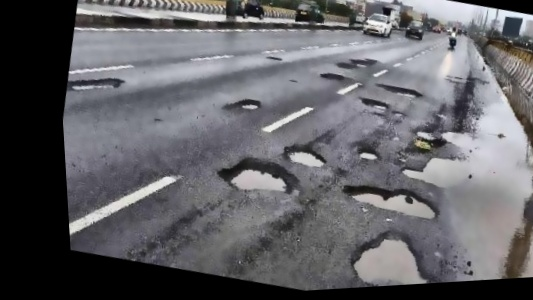pothole: (345, 218, 444, 288), (339, 171, 444, 227), (216, 147, 302, 203), (397, 143, 464, 191), (66, 64, 126, 101), (282, 139, 329, 172), (334, 47, 380, 77), (377, 78, 423, 101), (234, 93, 262, 114), (318, 67, 345, 84), (363, 96, 391, 112), (357, 145, 382, 162)
